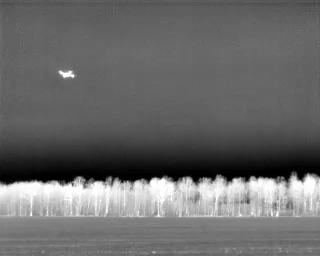DRONE: (55, 66, 79, 83)
